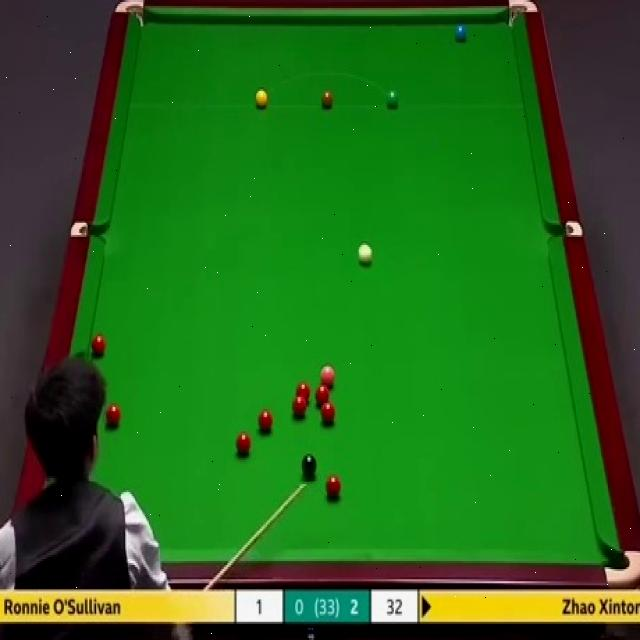black-ball: (301, 452, 319, 481)
blue-ball: (453, 20, 469, 45)
brown-ball: (321, 90, 334, 111)
green-ball: (386, 89, 400, 111)
pink-ball: (317, 363, 336, 388)
red-ball: (103, 400, 122, 430), (235, 432, 252, 460), (326, 476, 343, 500), (258, 408, 274, 432), (90, 333, 105, 358), (320, 401, 336, 424), (291, 396, 307, 419), (294, 382, 312, 402), (314, 385, 330, 405)
white-ball: (356, 240, 375, 270)
yellow-ball: (255, 88, 268, 110)
